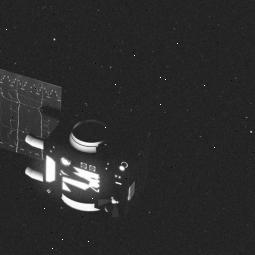proba_3_csc: (0, 66, 141, 224)
